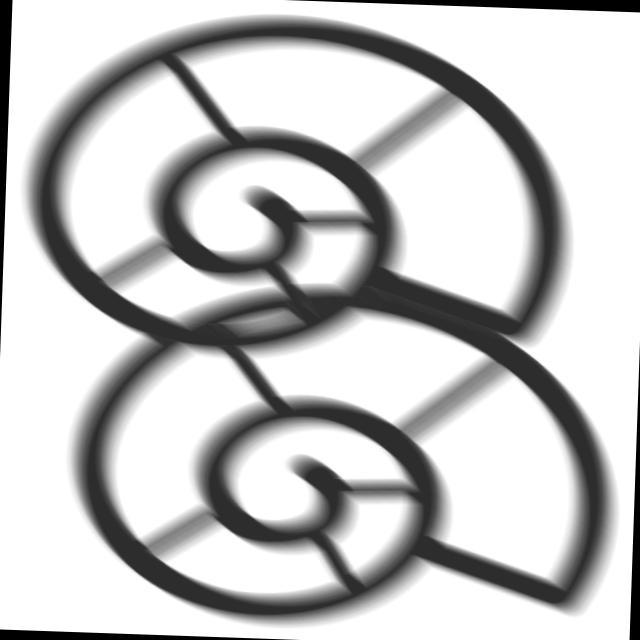fossil: (49, 273, 633, 640), (10, 4, 590, 371)
